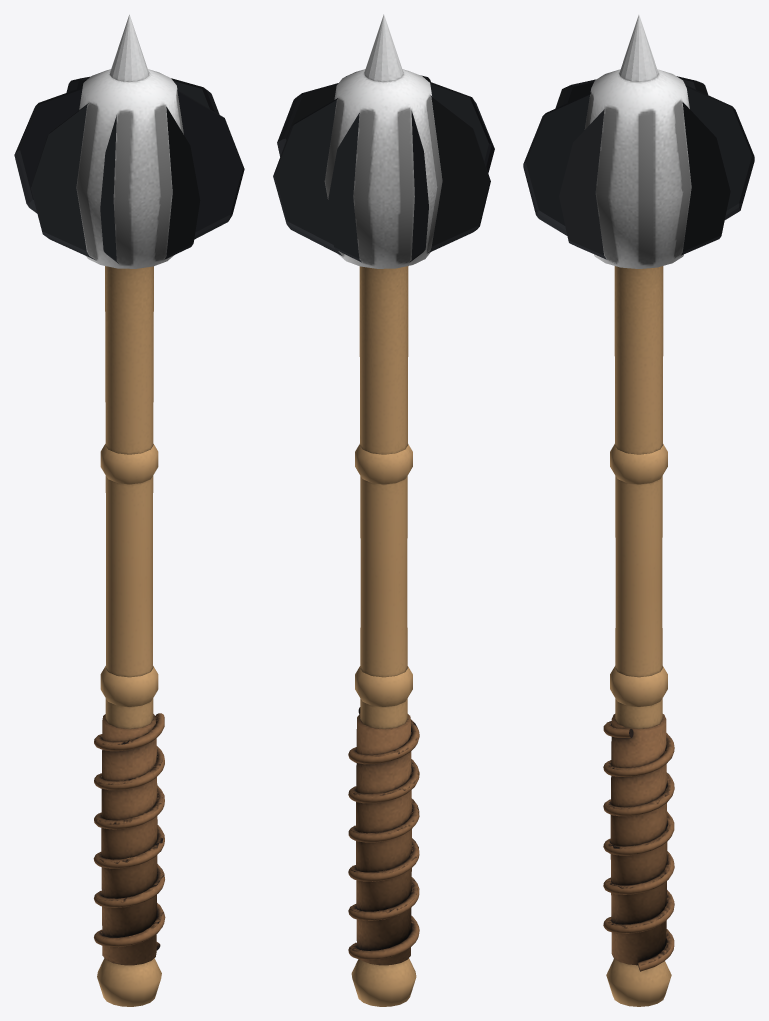
Rendered from arma_maca_refinada.glb.
3 renders of one model, left to right at view 1: azimuth 30°, elevation 25°; view 2: azimuth 150°, elevation 25°; view 3: azimuth 270°, elevation 25°, orthographic.
Parts seen in each view (by area): view 1: arma_maca_refinada; view 2: arma_maca_refinada; view 3: arma_maca_refinada.
Boxes of the visible parts, x1=… form: arma_maca_refinada: x1=14, y1=14, x2=244, y2=1006; arma_maca_refinada: x1=273, y1=14, x2=494, y2=1006; arma_maca_refinada: x1=523, y1=15, x2=754, y2=1006.
Bounding box in the file's own units: 0.1693 × 0.7988 × 0.1693.
Materials: 1 (1 with a texture image).
